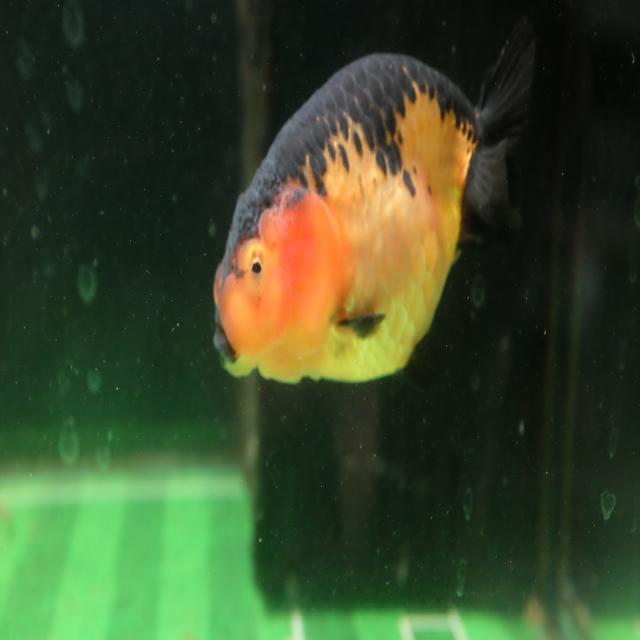Goldfish: (211, 12, 539, 388)
